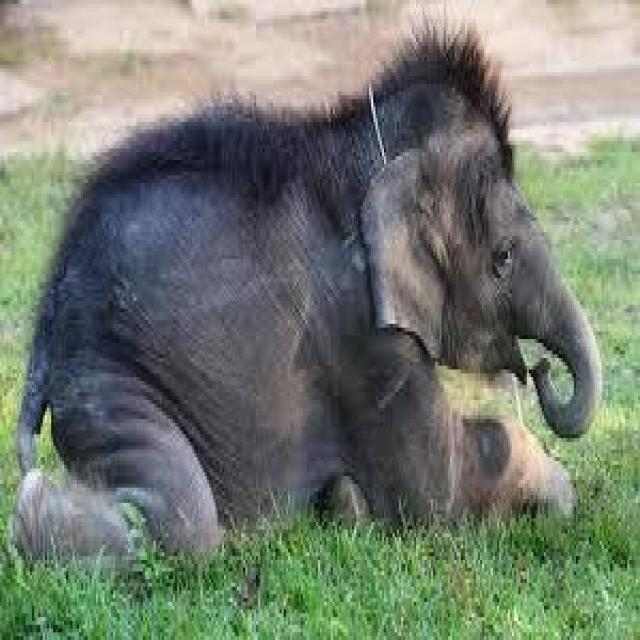Elephant: (7, 23, 606, 585)
